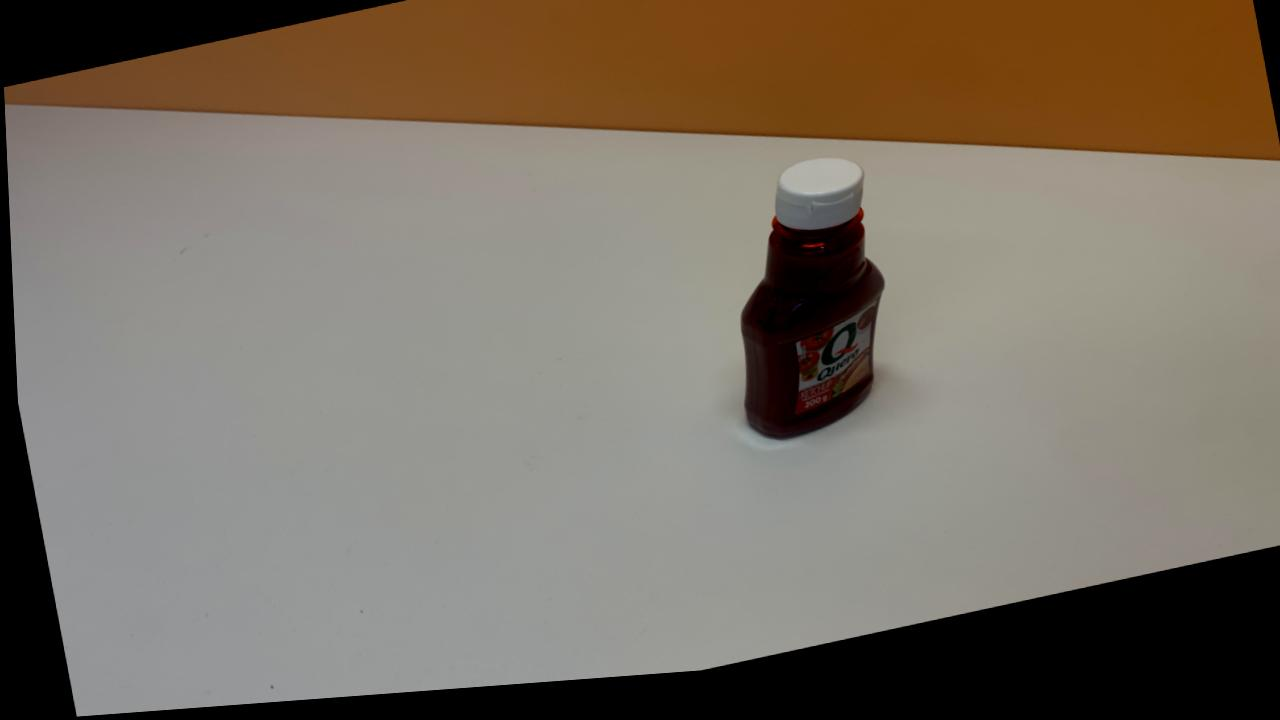Ketchup-Pantry_Items: (737, 171, 884, 454)
